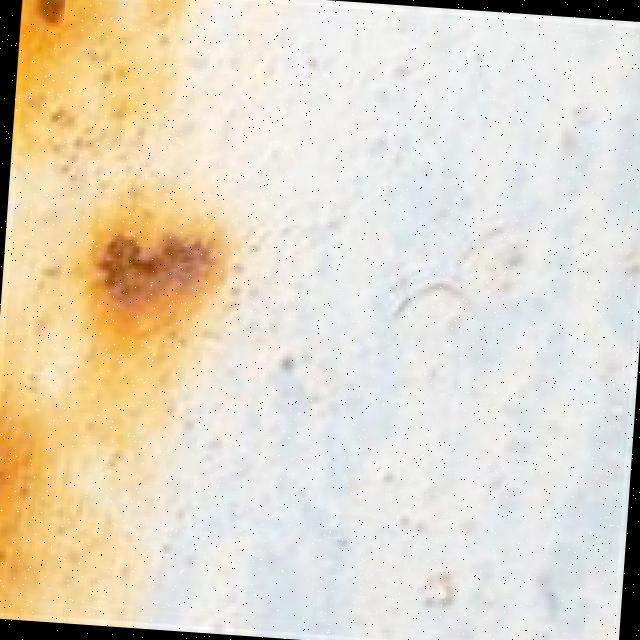Corrosion: (0, 0, 258, 631), (69, 168, 235, 351)
